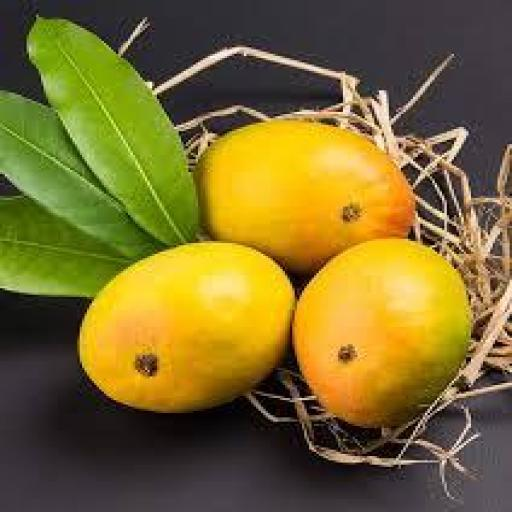mango: (80, 241, 294, 413), (196, 121, 415, 273), (295, 239, 470, 428)
